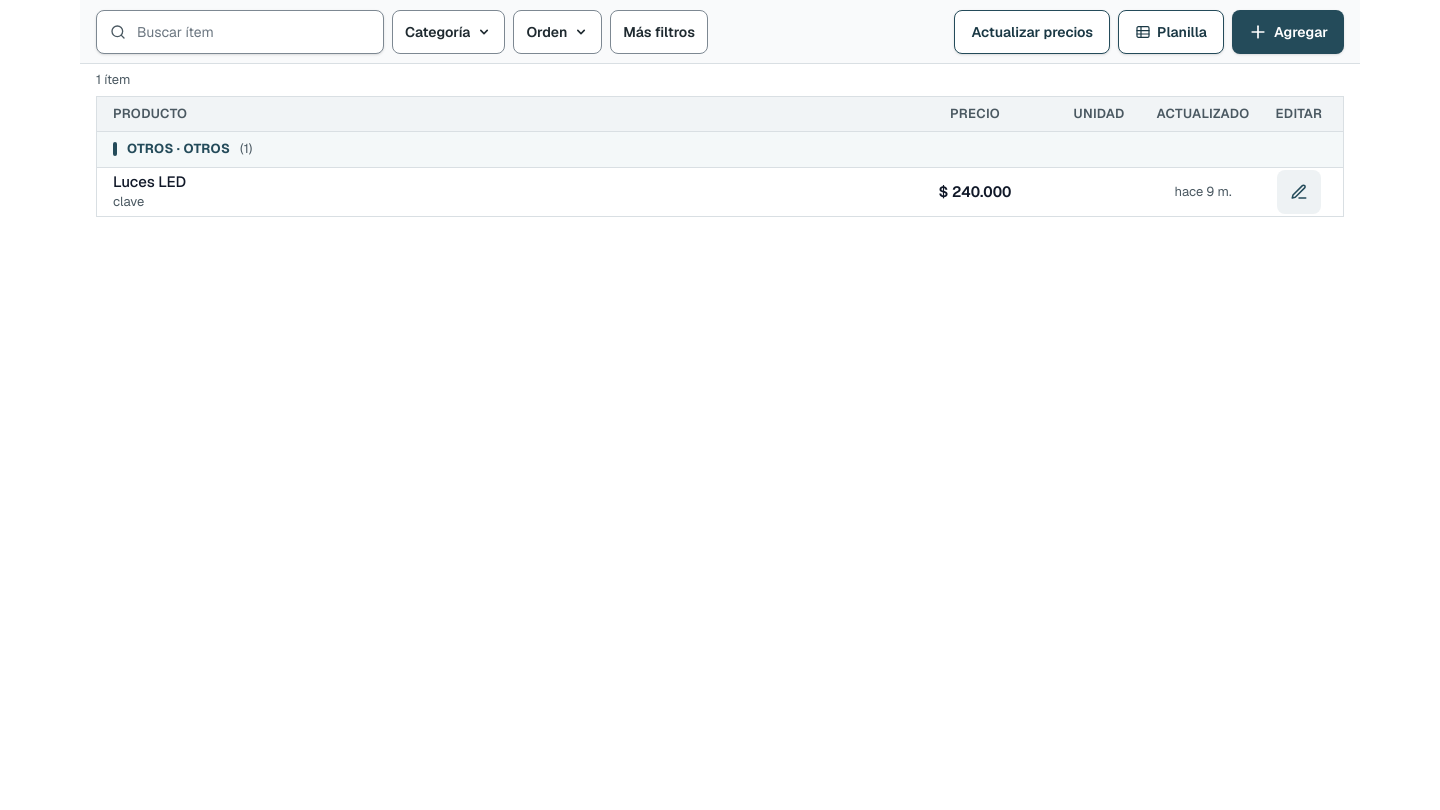
CatalogoPage · edición › editar un ítem, guardarlo y ver el listado actualizado con feedback de éxito
Click the button named "Editar" at (1299, 192), box [1277,170,1321,214]
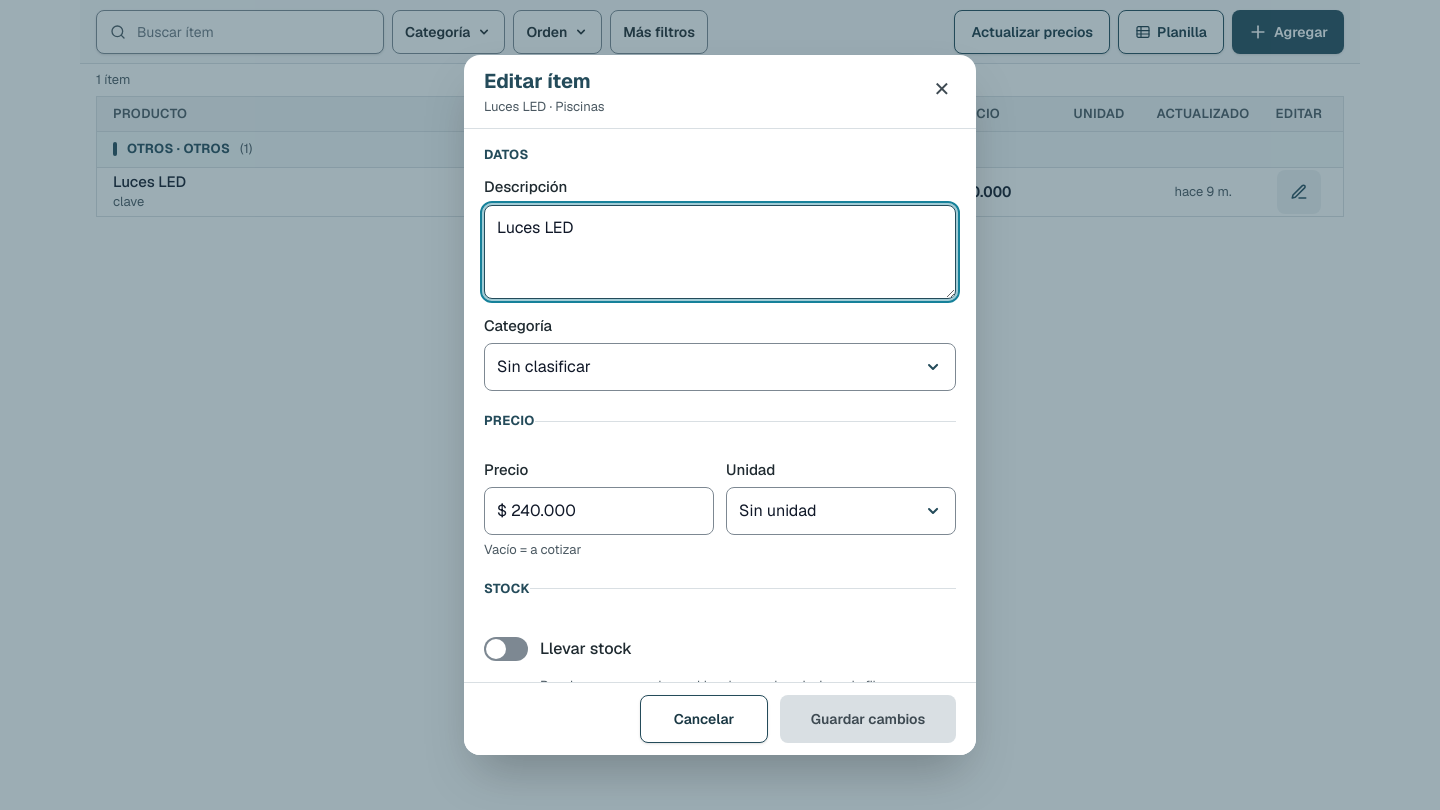
Replace the text in the field labelled "Precio" with "300000" at (599, 511), box [484,487,714,535]
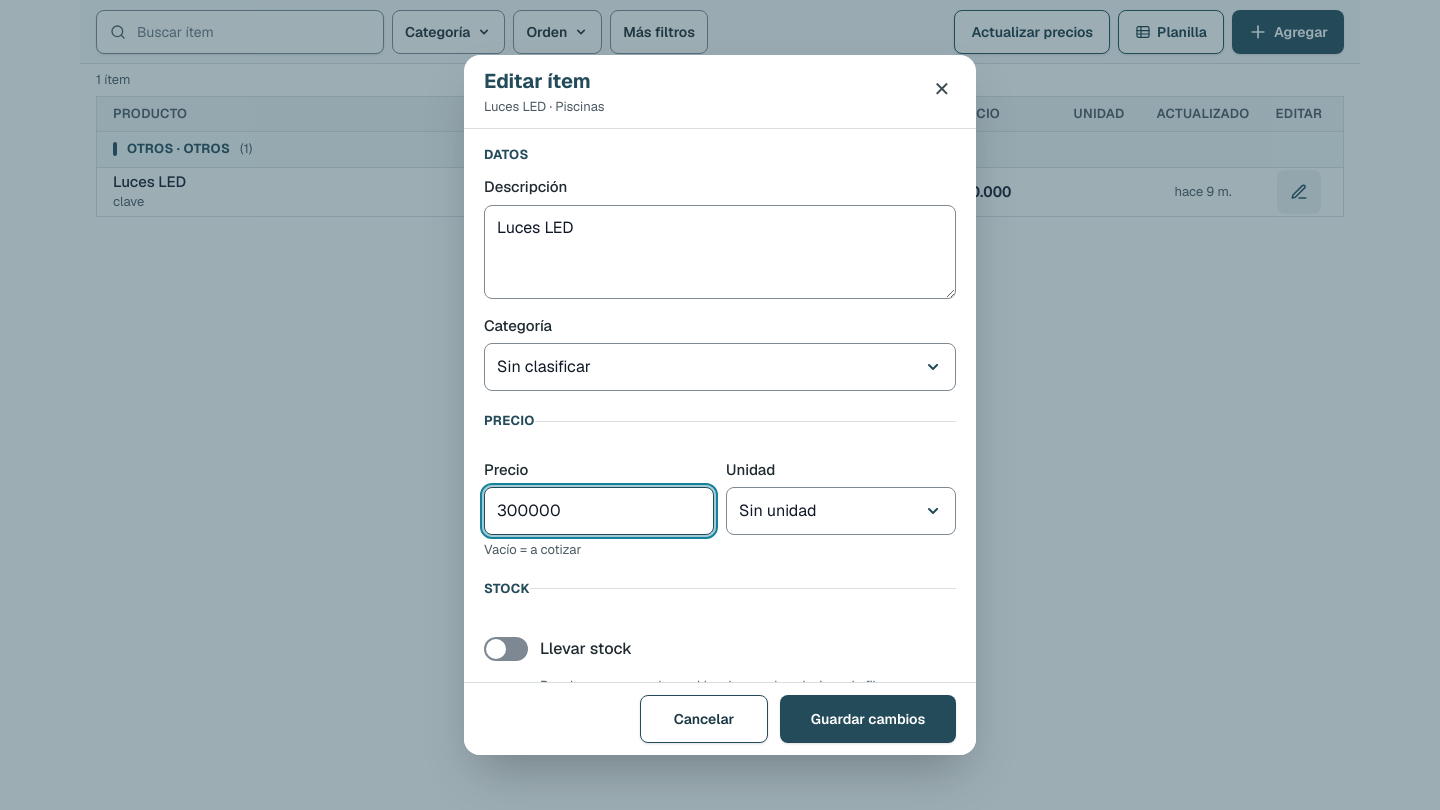
Click the button "Guardar cambios" at (868, 719), box [780,695,956,743]
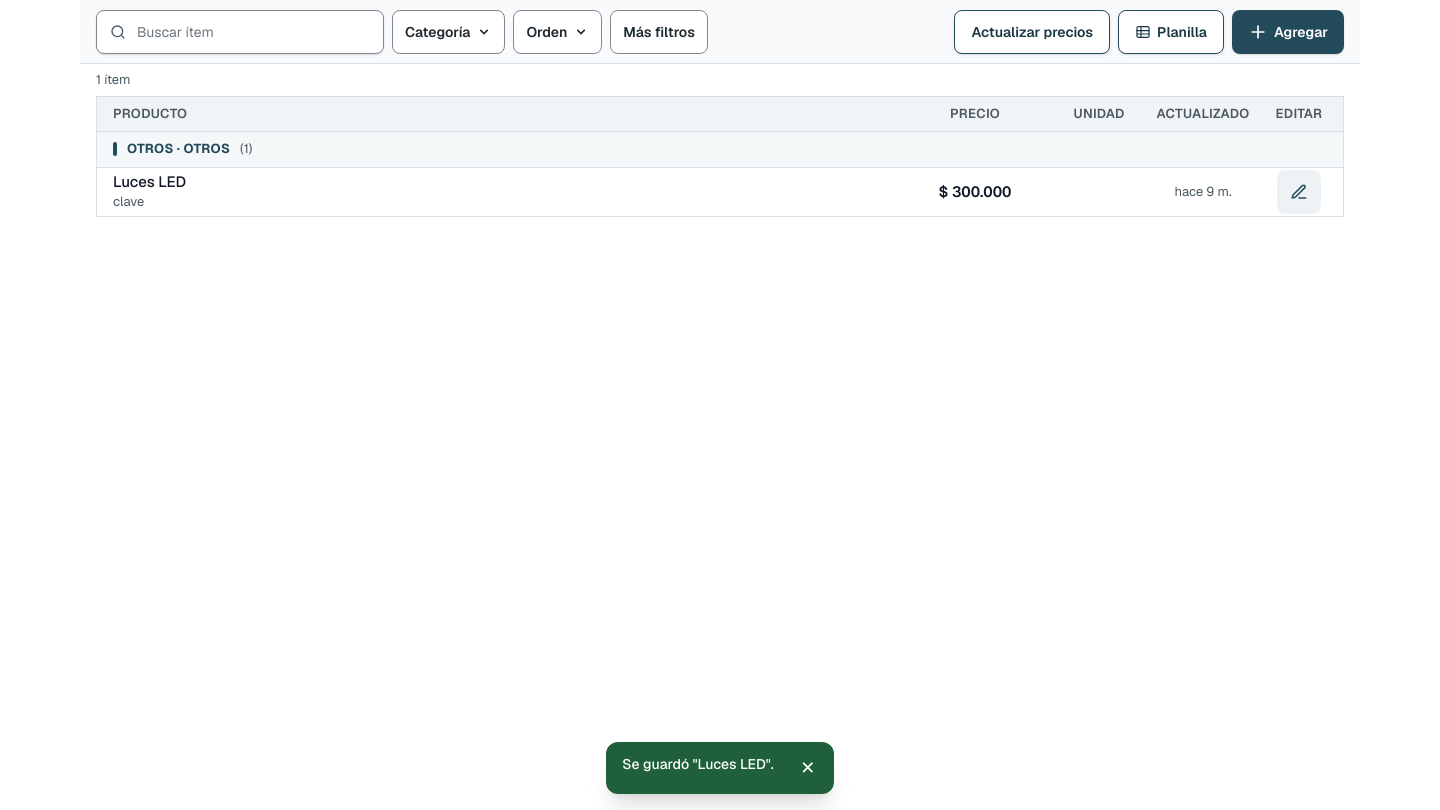
Expected: the dialog is gone
Expected: the text "$ 300.000" is shown, [938,182,1011,200]
Expected: the text "Se guardó \"Luces LED\"." is shown, [622,754,774,774]
